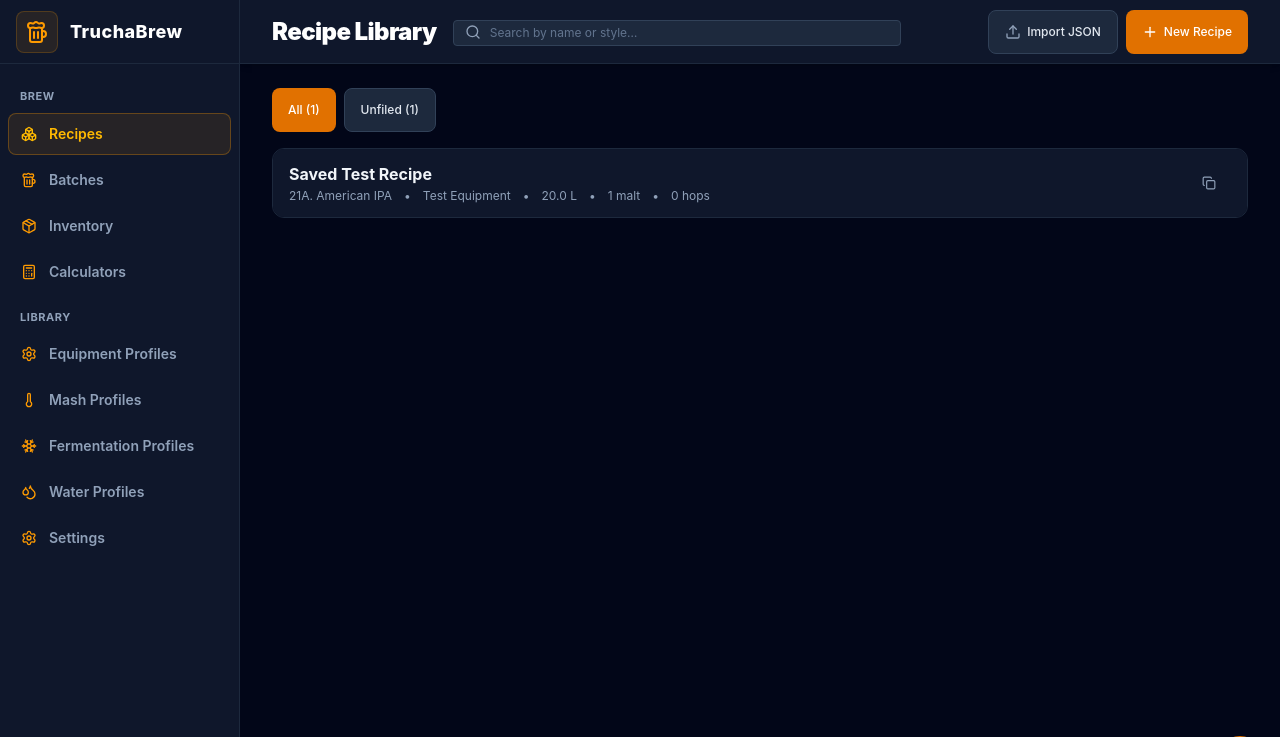
Test: AC-8: the "Brew This" control › (b) is disabled with a reason once the open (saved) recipe is dirtied
The width and height of the screenshot is (1280, 737).
Click the text "Saved Test Recipe": (360, 174) x1=289 y1=164 x2=432 y2=184
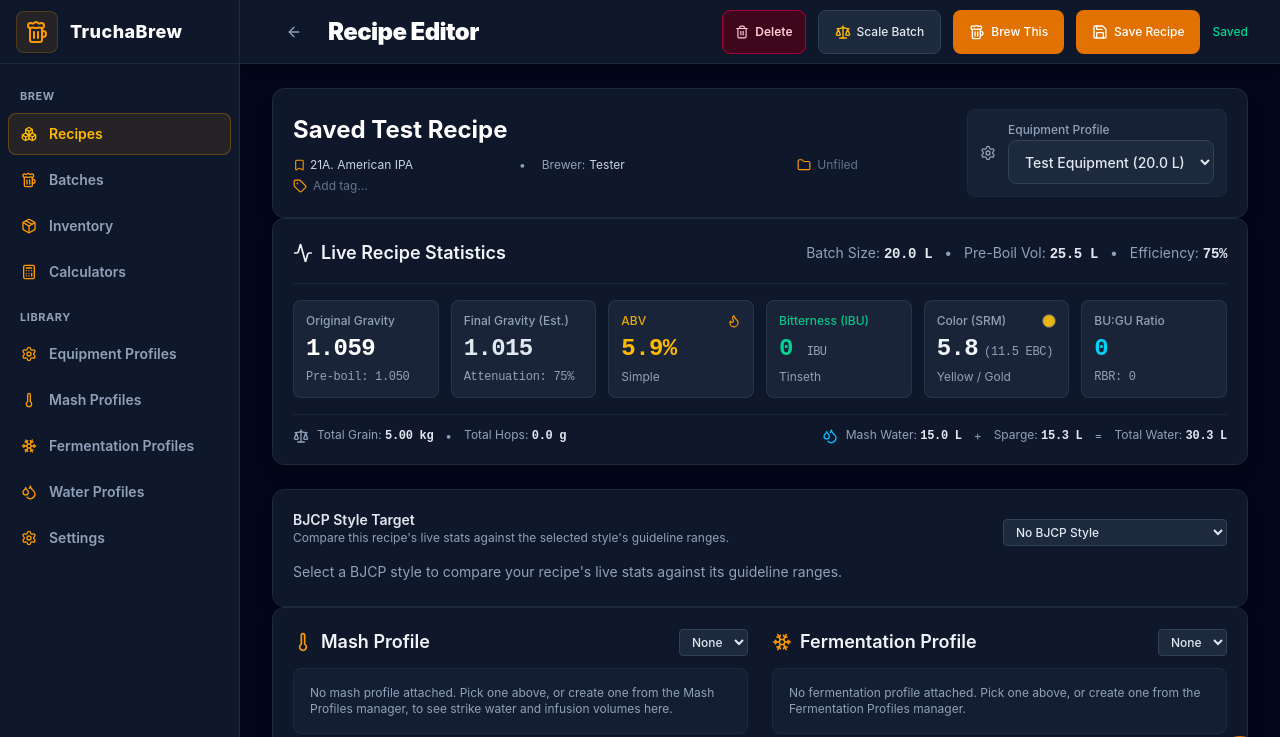
Expected: the button "Brew This" is enabled, x1=953 y1=10 x2=1064 y2=54
Replace the text in the field with placeholder "Recipe Name" with "Changed Name": (622, 130) x1=293 y1=112 x2=951 y2=148
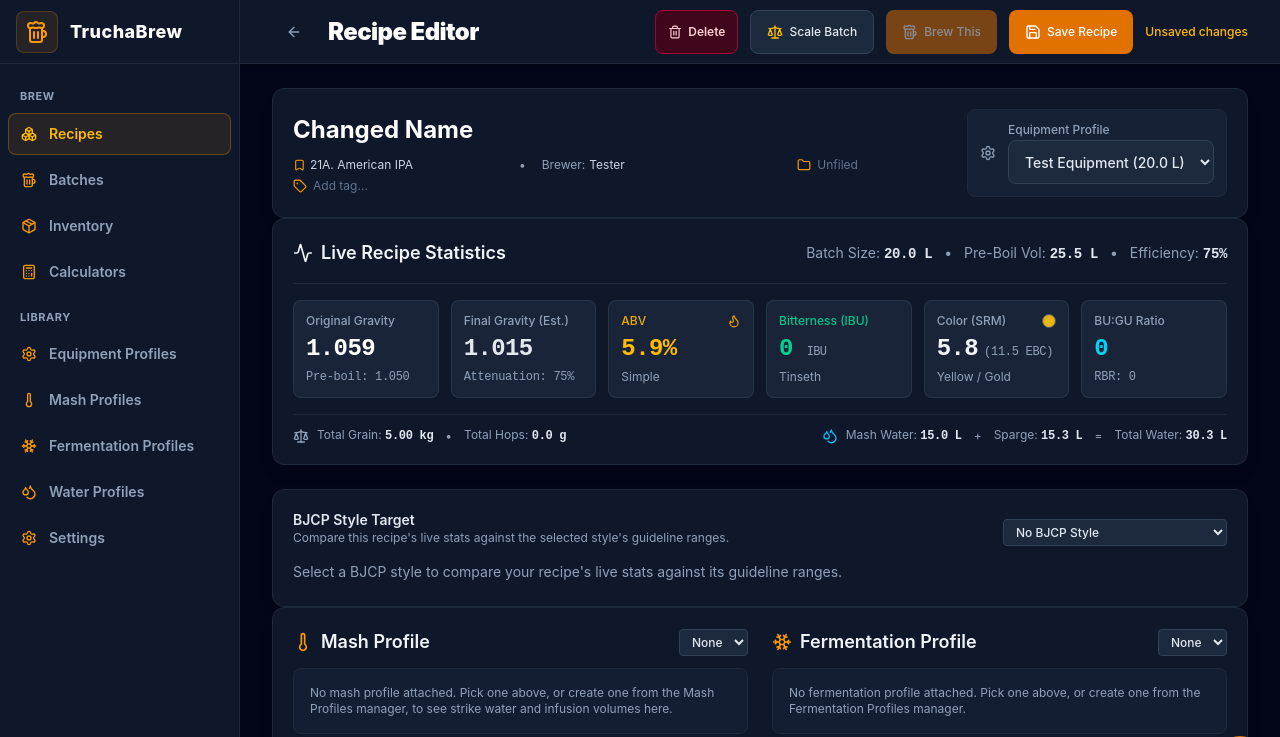
Expected: the button "Brew This" is disabled, x1=886 y1=10 x2=997 y2=54
